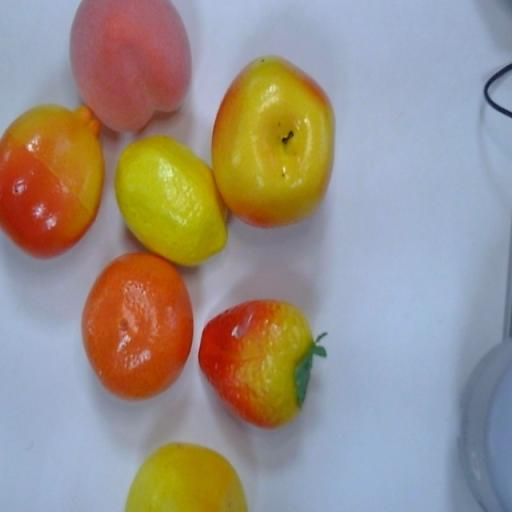Ripe: (212, 53, 338, 231), (196, 294, 329, 437), (81, 252, 196, 406), (0, 98, 107, 262), (68, 1, 194, 139), (115, 130, 230, 268)
